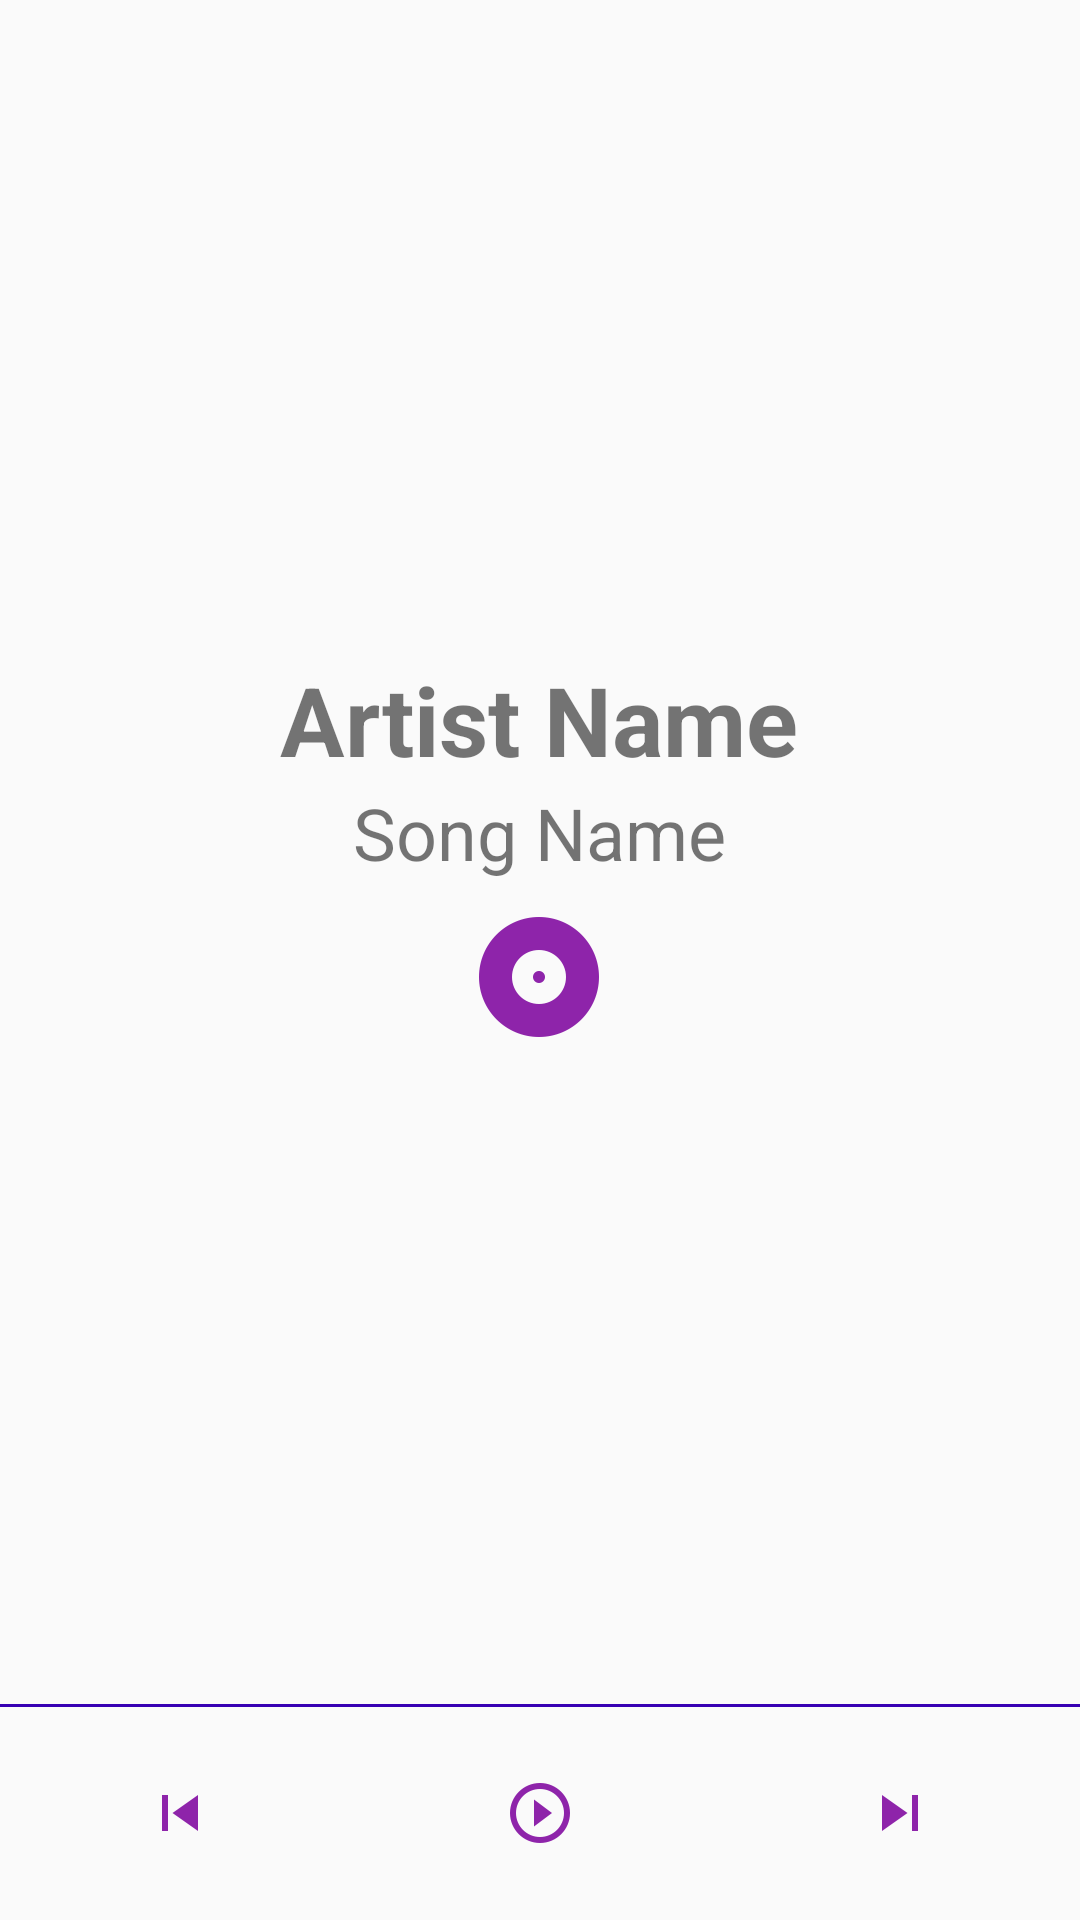

Icon click points for this 1080x1920 phone screenshot, format (x=x, y=y):
album: (x=539, y=977)
play circle: (x=540, y=1813)
skip next: (x=900, y=1813)
skip previous: (x=180, y=1813)
